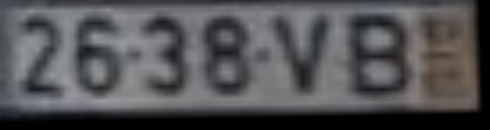2: (14, 13, 71, 103)
3: (139, 12, 195, 104)
6: (70, 12, 129, 106)
8: (197, 14, 259, 102)
B: (347, 12, 418, 104)
V: (266, 13, 340, 104)
